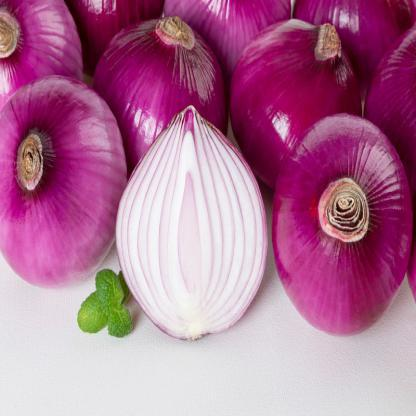onion: (132, 138, 270, 327), (279, 158, 414, 336), (0, 86, 125, 278), (237, 14, 360, 168), (109, 26, 229, 136)
